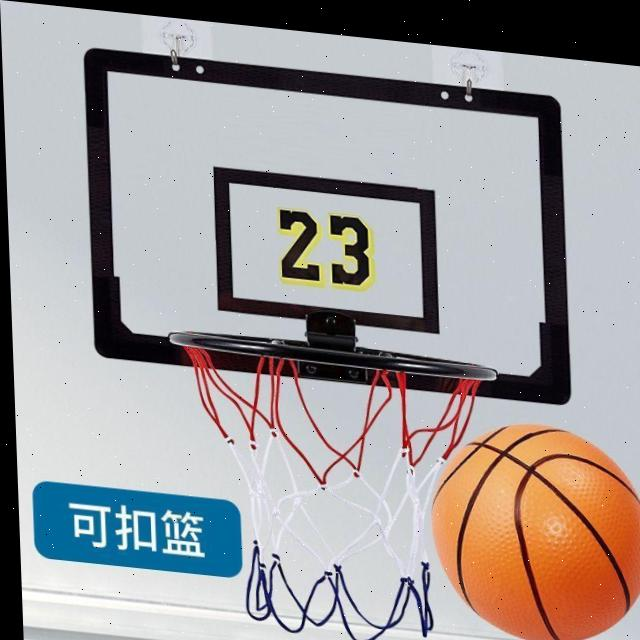basketball: (431, 414, 640, 640)
hoop: (170, 328, 506, 640)
